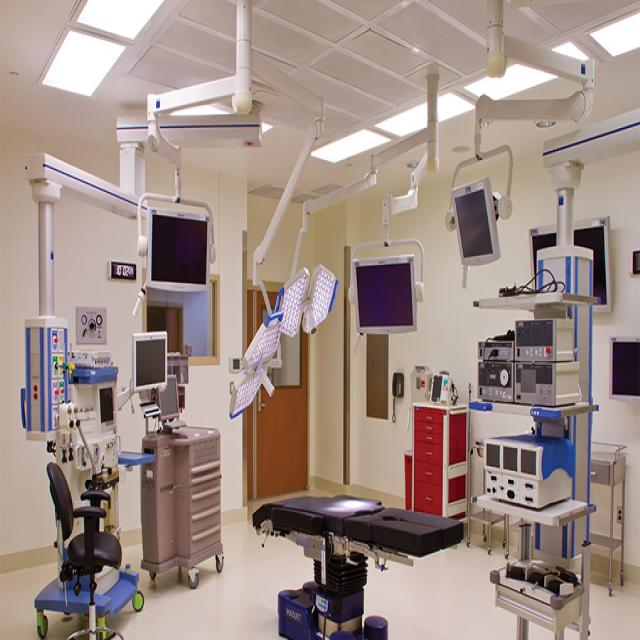cardiac_monitor: (136, 201, 216, 315), (354, 263, 424, 342), (455, 198, 501, 274), (133, 343, 172, 392)
lightings: (242, 270, 334, 425)
patient_bed: (269, 474, 450, 598)
ventilator: (481, 280, 582, 628), (31, 303, 123, 606)
